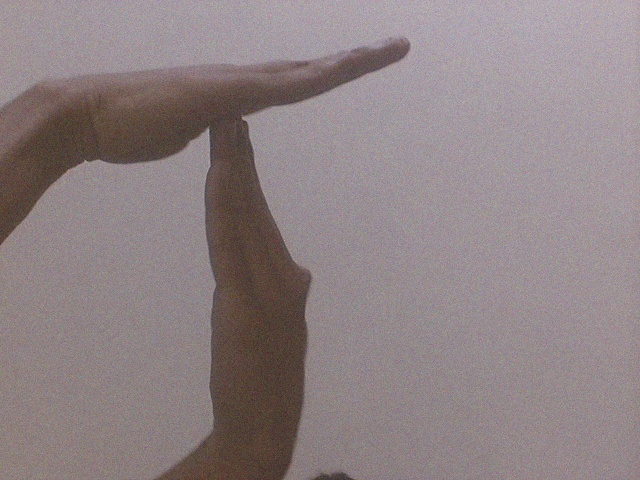hand: (54, 33, 414, 171), (199, 112, 317, 450)
